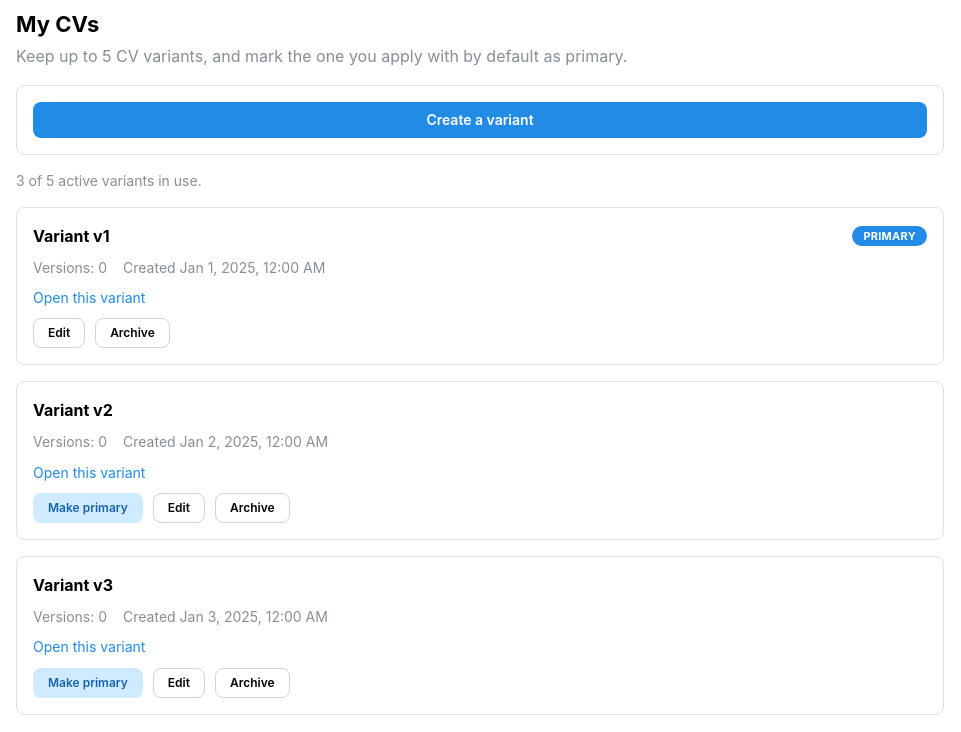
it: the primary control (Req 11 AC7) › moves the single primary badge onto the designated variant
This screenshot has width=961, height=732.
Click the button with test id "variant-set-primary-v3" at (88,683), box [33, 668, 143, 698]
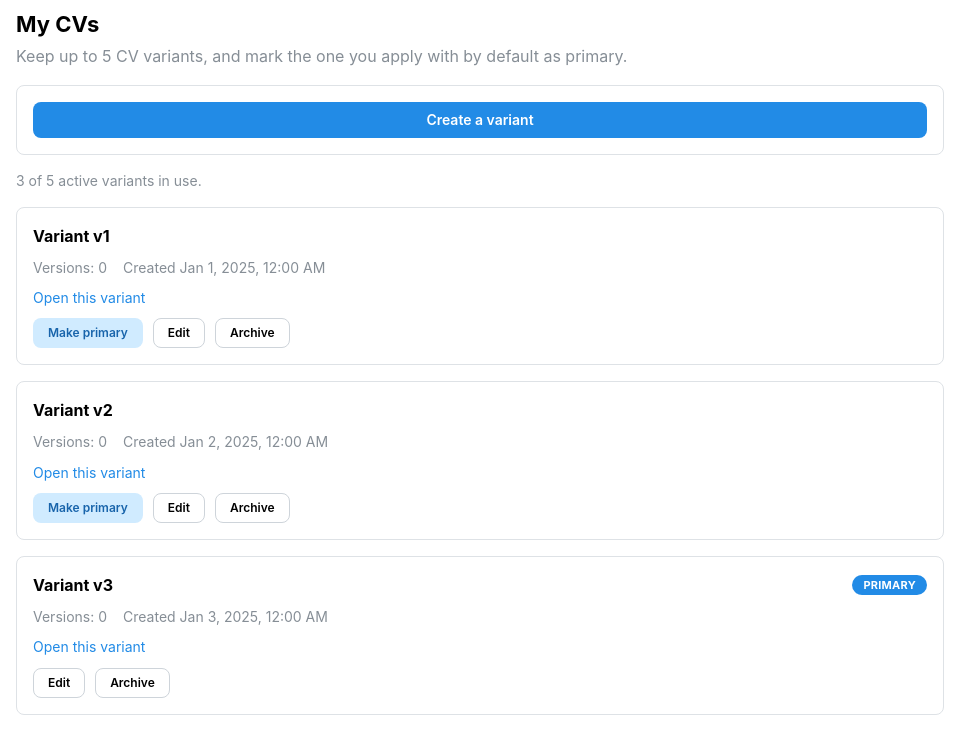
Expected: the text "Primary" is shown once, [863, 576, 916, 594]
Expected: the element with test id "variant-primary-badge-v3" is shown, [852, 575, 927, 595]
